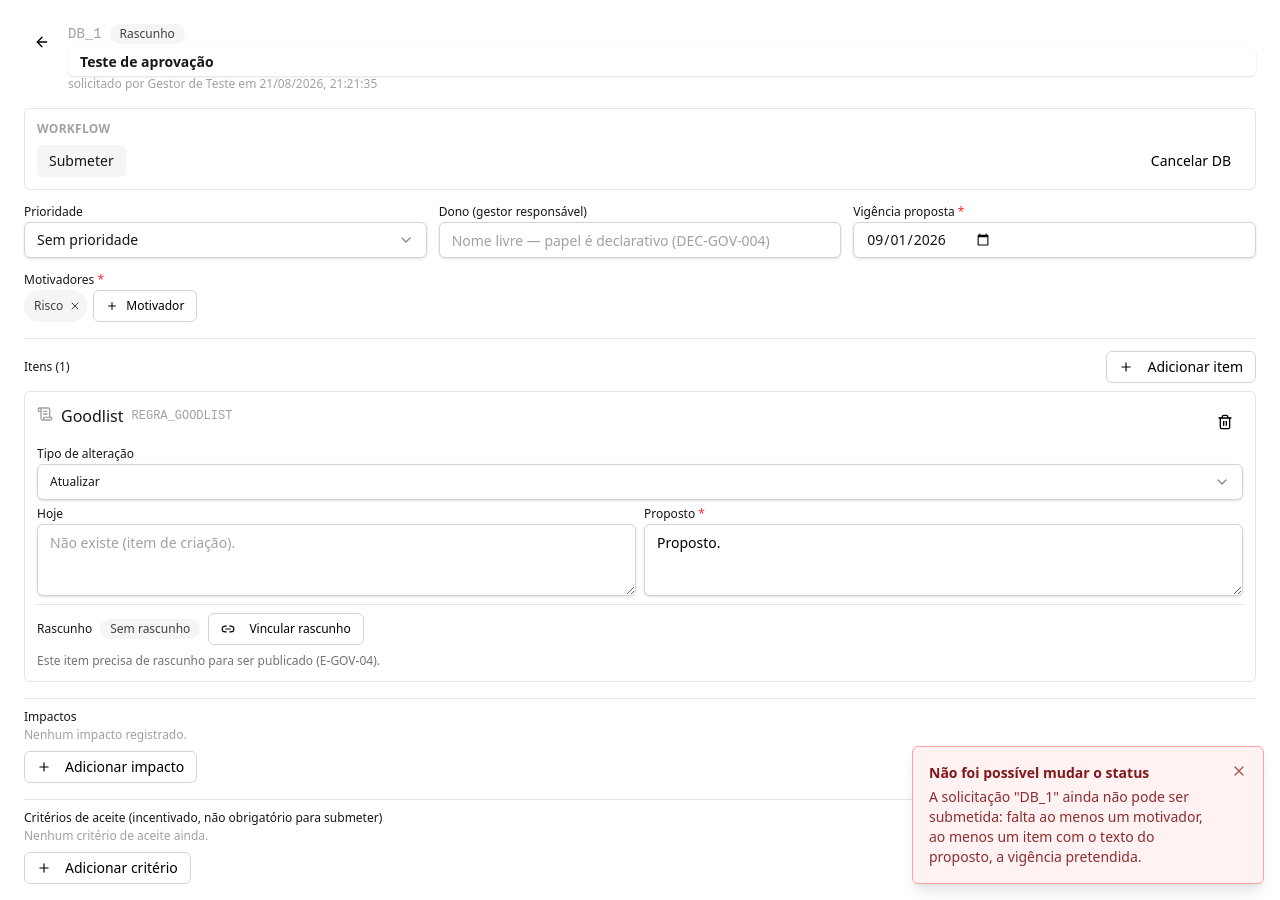
ChangeRequestDetail — ações visíveis por estado (docs/14 §5) › APPROVED mostra o aviso de RN-GOV-04 e um "Publicar" desabilitado — publicar só de READY_FOR_RELEASE
The width and height of the screenshot is (1280, 900).
Step 1. Click the button "Submeter" → {"x": 81, "y": 161}, box top-left (37, 145), bottom-right (126, 177)
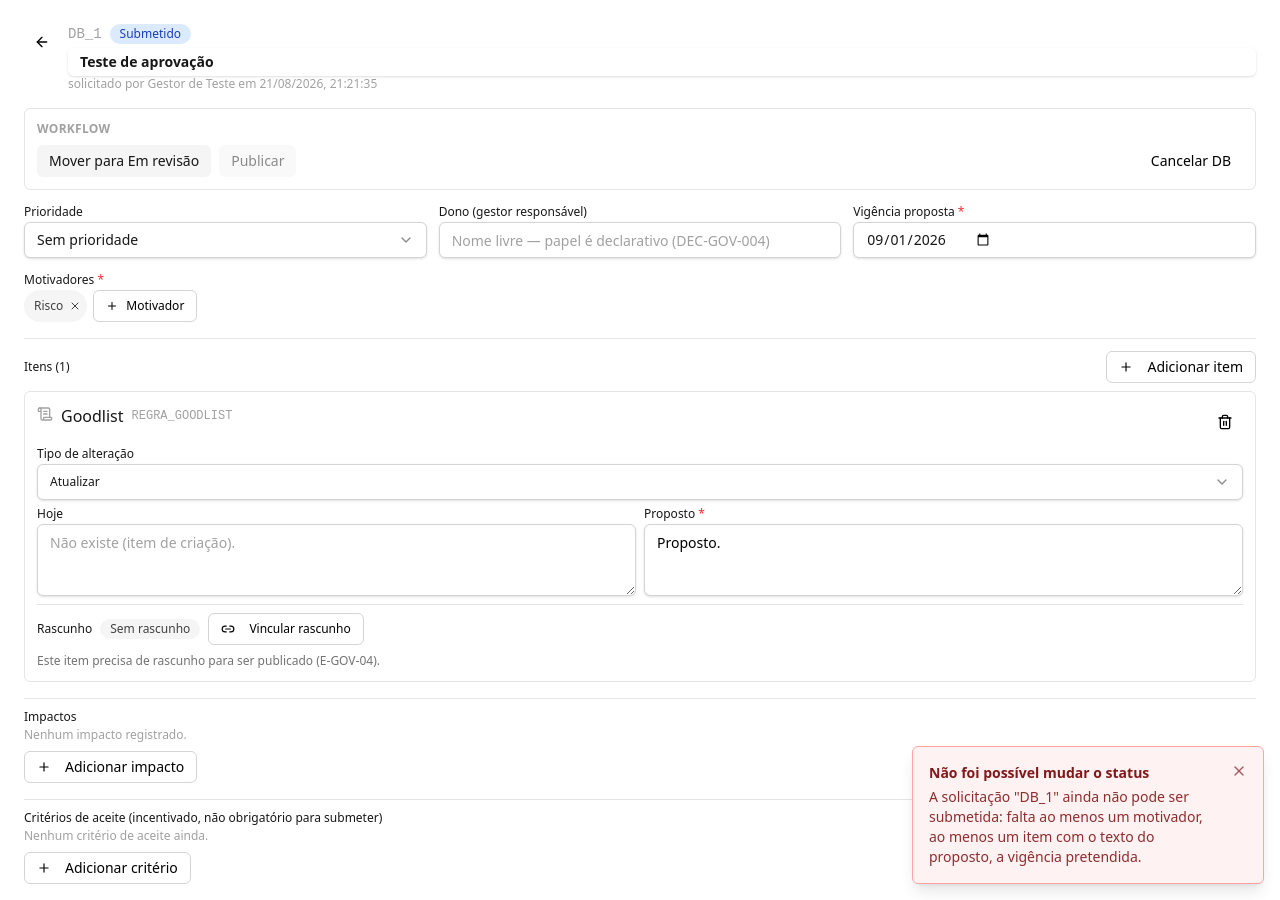
Step 2. Click the button "Mover para Em revisão" → {"x": 124, "y": 161}, box top-left (37, 145), bottom-right (211, 177)
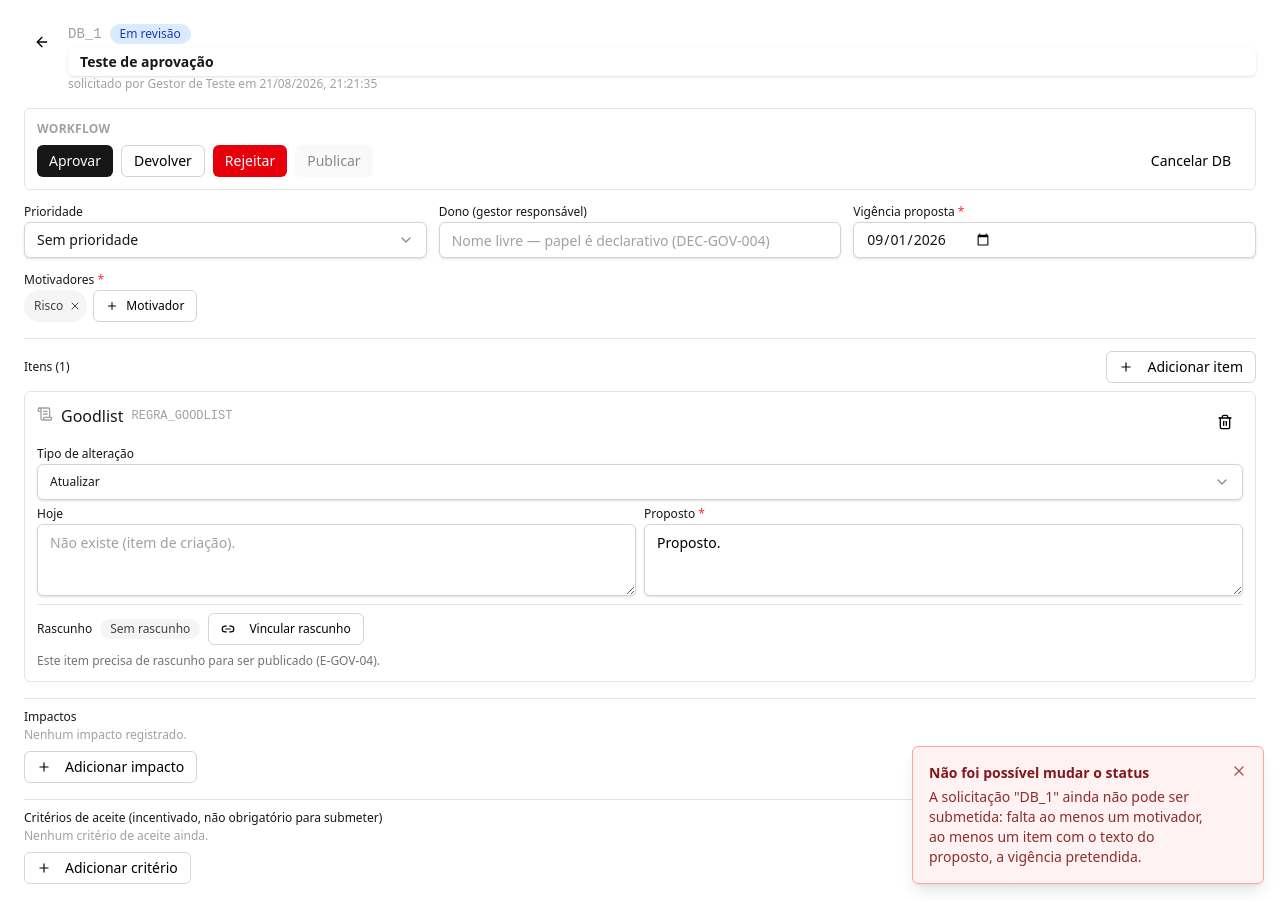
Step 3. Click the button "Aprovar" → {"x": 75, "y": 161}, box top-left (37, 145), bottom-right (113, 177)
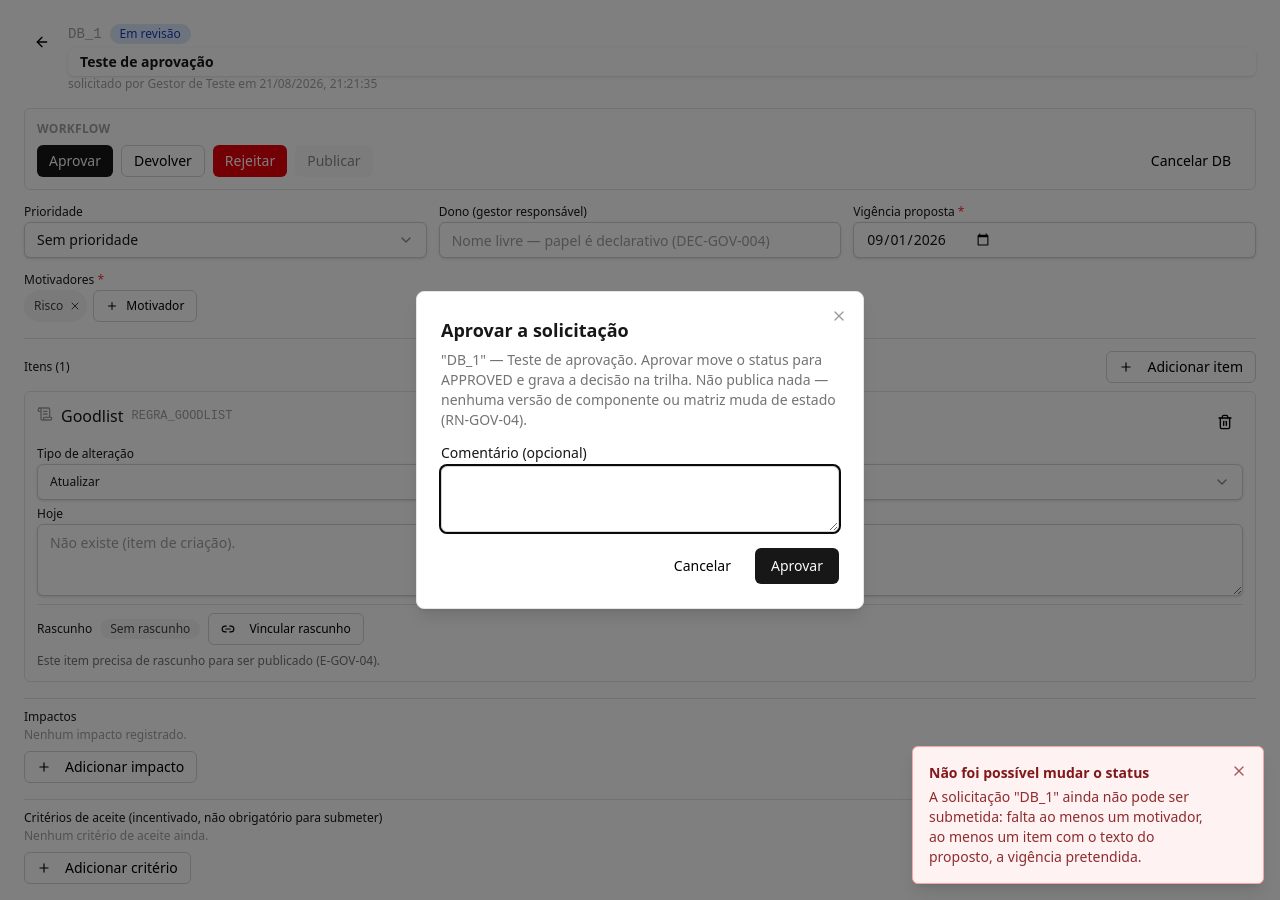
Step 4. Click the button "Aprovar" → {"x": 797, "y": 566}, box top-left (755, 548), bottom-right (839, 584)
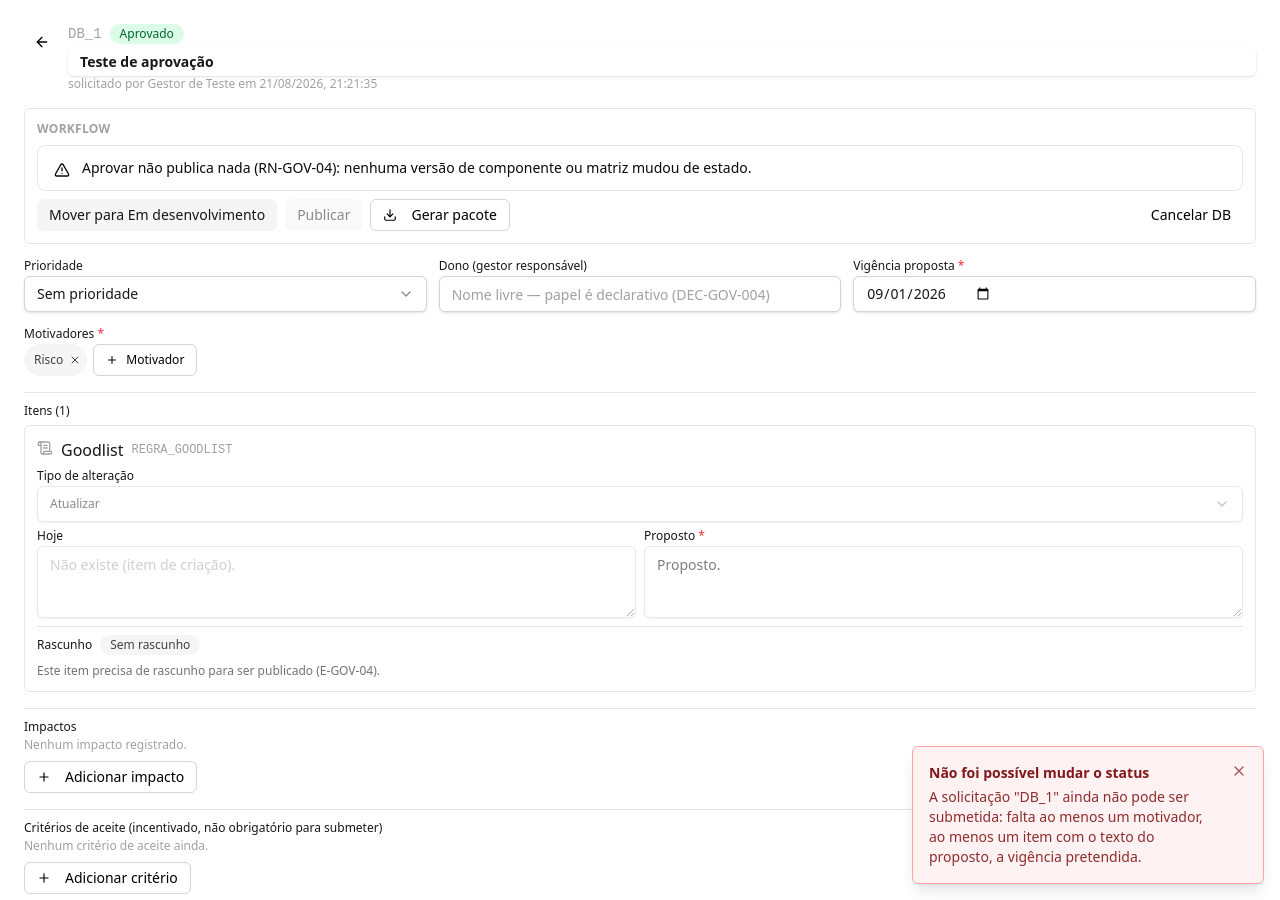
Expected: the button "Publicar" is disabled, top-left (285, 199), bottom-right (362, 231)
Expected: the text "Aprovado" is shown, top-left (110, 24), bottom-right (184, 44)
Expected: the text "Aprovar não publica nada (RN-GOV-04)" is shown, top-left (82, 158), bottom-right (752, 177)
